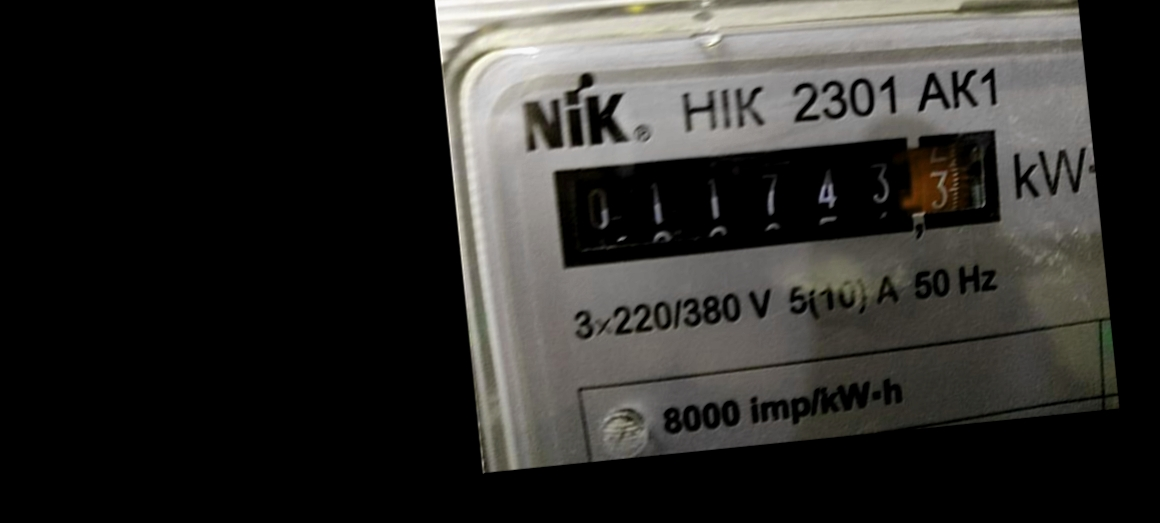0: (583, 183, 617, 232)
1: (702, 172, 728, 222), (648, 178, 669, 228)
3: (866, 157, 898, 207), (927, 165, 955, 212)
4: (812, 162, 845, 212)
7: (758, 168, 787, 219)
screen: (538, 115, 1014, 279)
